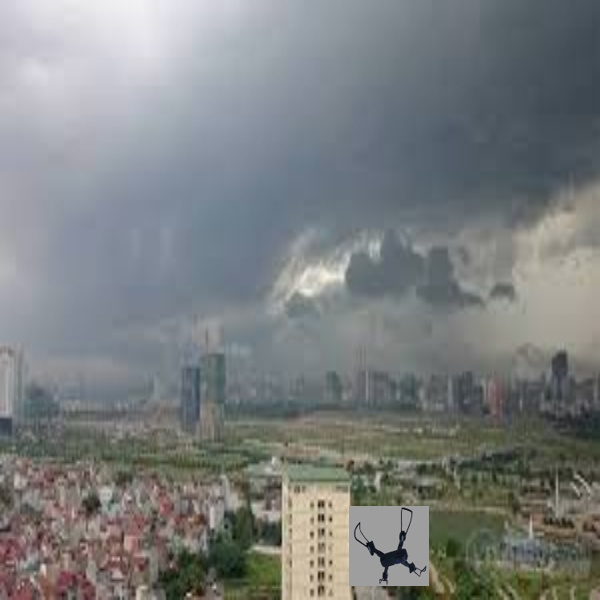drone: (355, 503, 429, 589)
